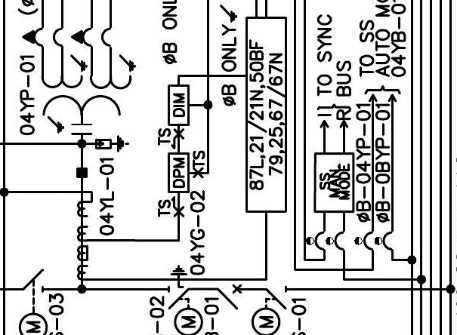115_breaker: (217, 284, 242, 310)
115_cvt_1p: (22, 26, 137, 136)
115_la: (95, 135, 130, 153)
DIM: (168, 85, 190, 126)
DPM: (168, 152, 190, 193)
ss_man_mode: (313, 152, 355, 213)
